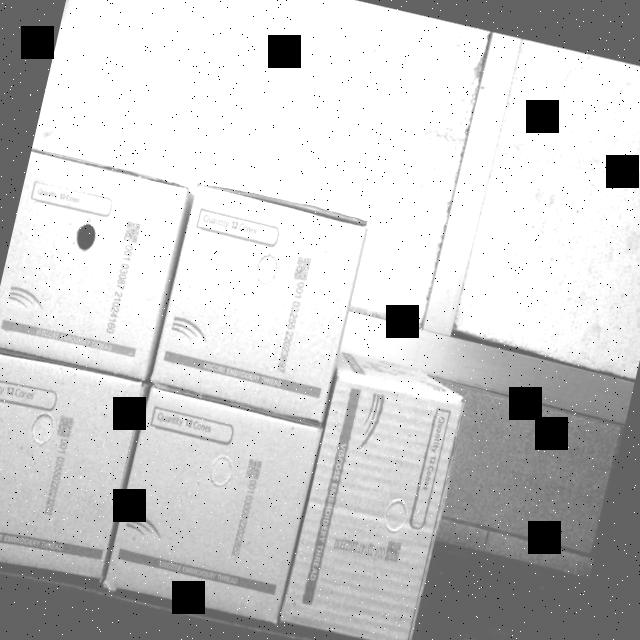box: (154, 174, 373, 428), (107, 387, 323, 624), (281, 379, 462, 640), (0, 139, 193, 381), (0, 345, 149, 589)
